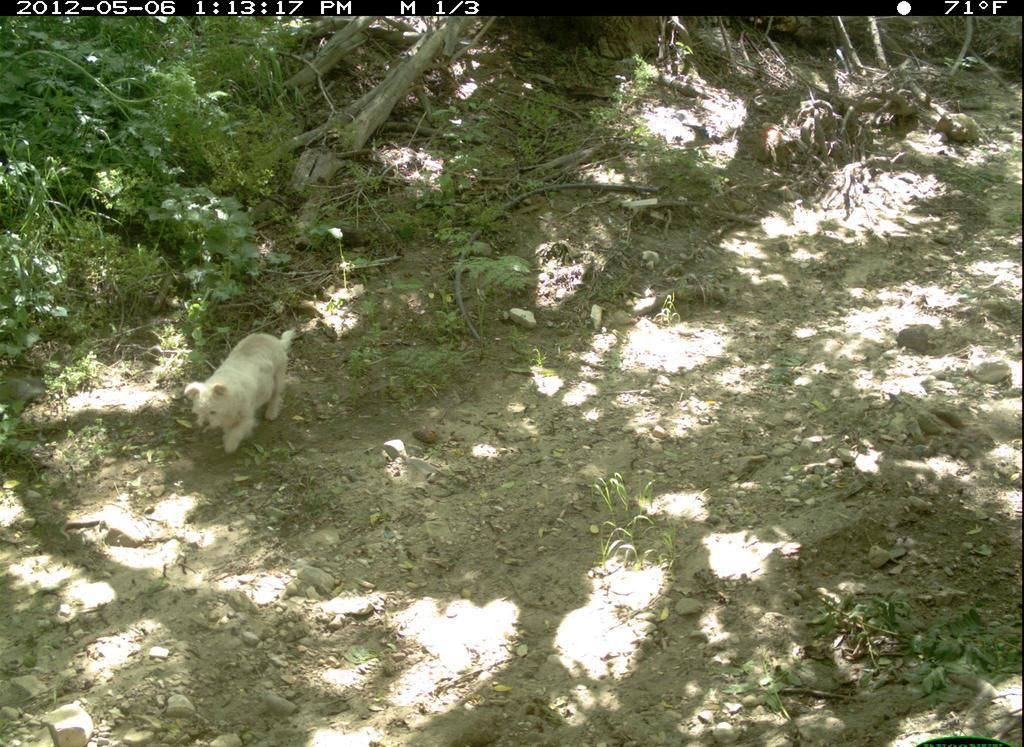dog: (181, 319, 308, 464)
